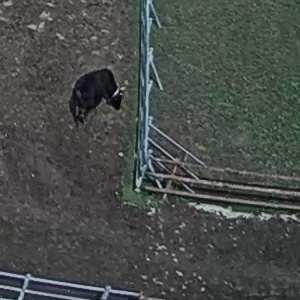cow: (57, 55, 129, 135)
